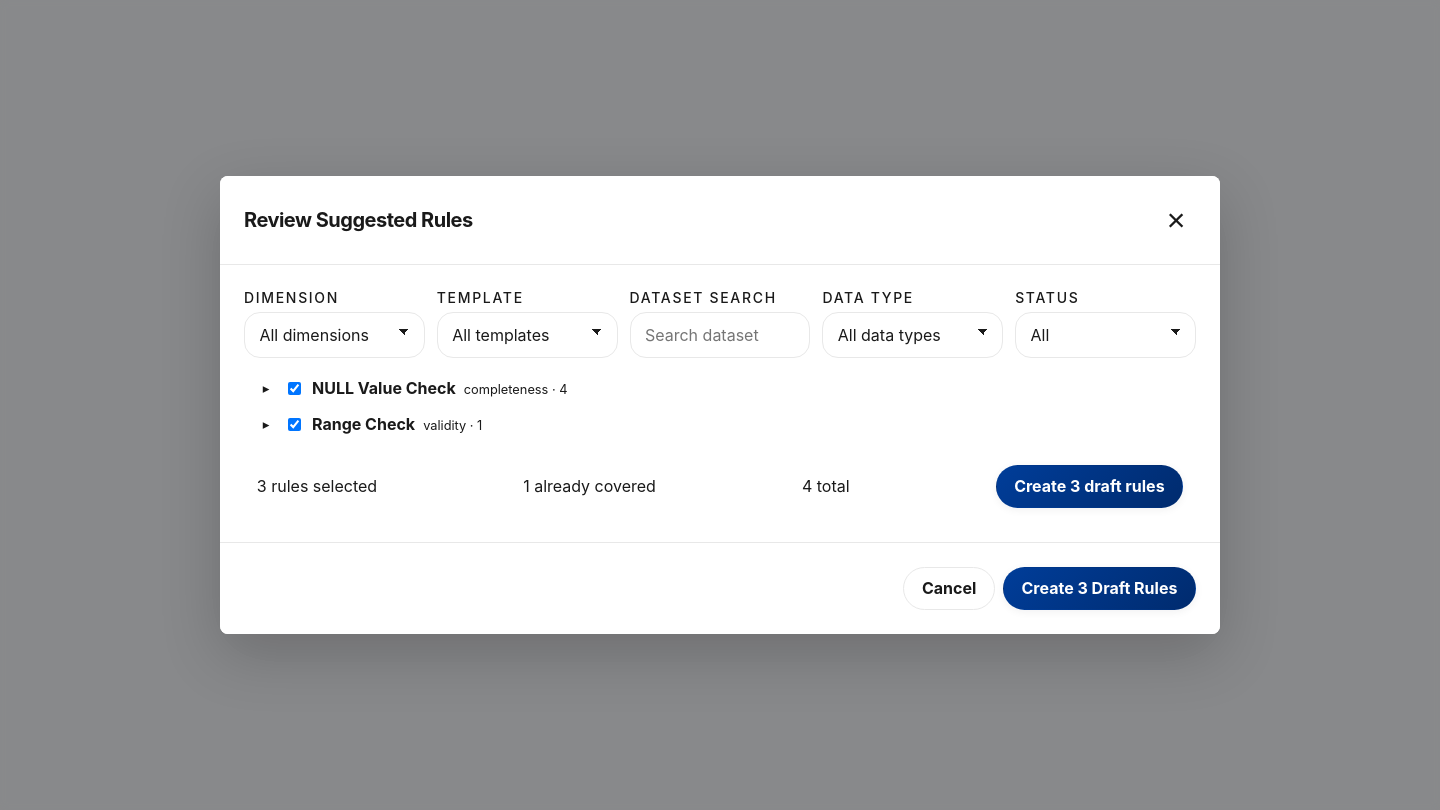
Test case: OnboardingRuleReview › applies status filter for already covered
Select "Already covered" in the dropdown labelled "Status": (1106, 335) x1=1015 y1=312 x2=1196 y2=358
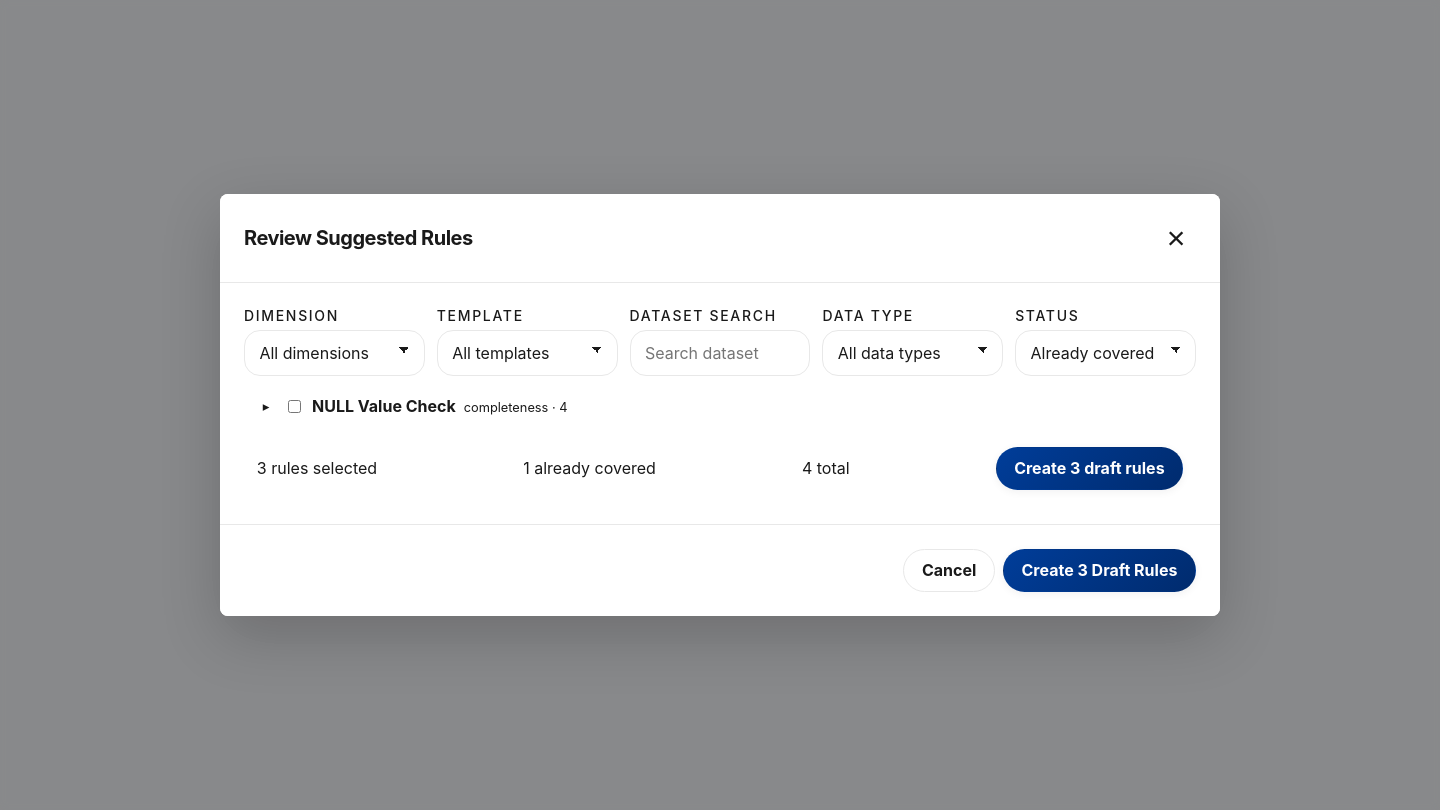
Click the button named "Expand template group": (266, 406) x1=256 y1=399 x2=276 y2=414
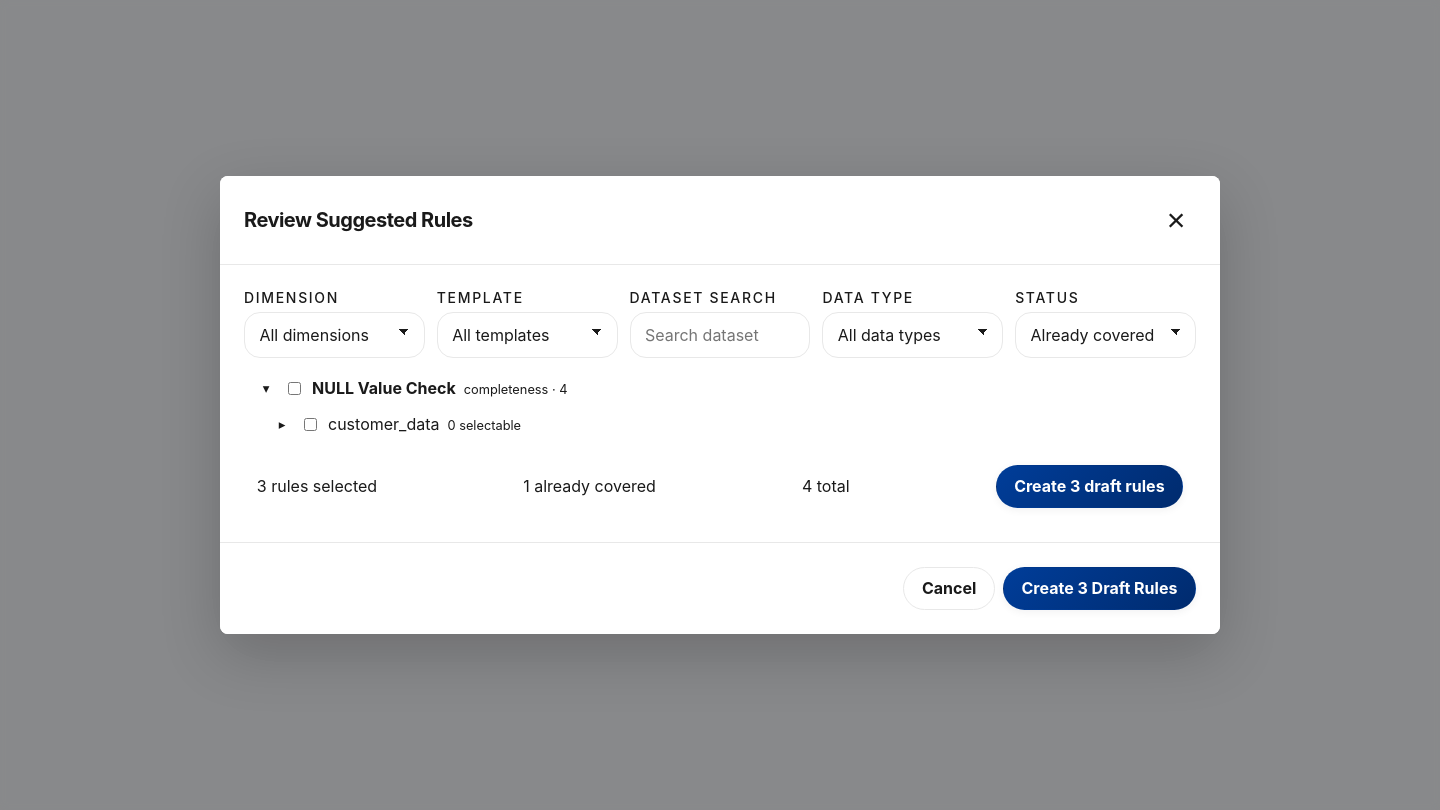
Click the button named "Expand dataset group": (282, 424) x1=272 y1=417 x2=292 y2=432
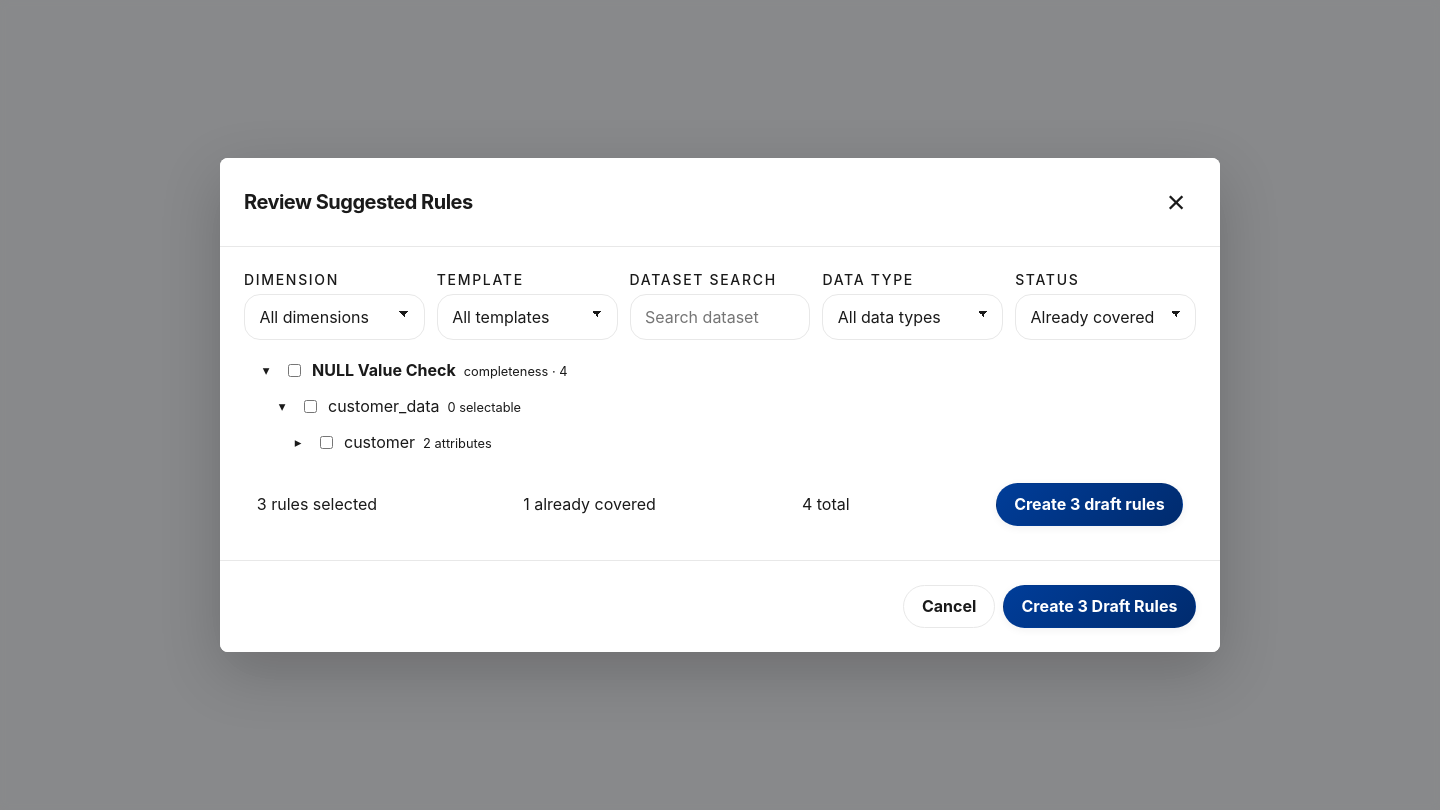
Click the button named "Expand object group": (298, 442) x1=288 y1=435 x2=308 y2=450
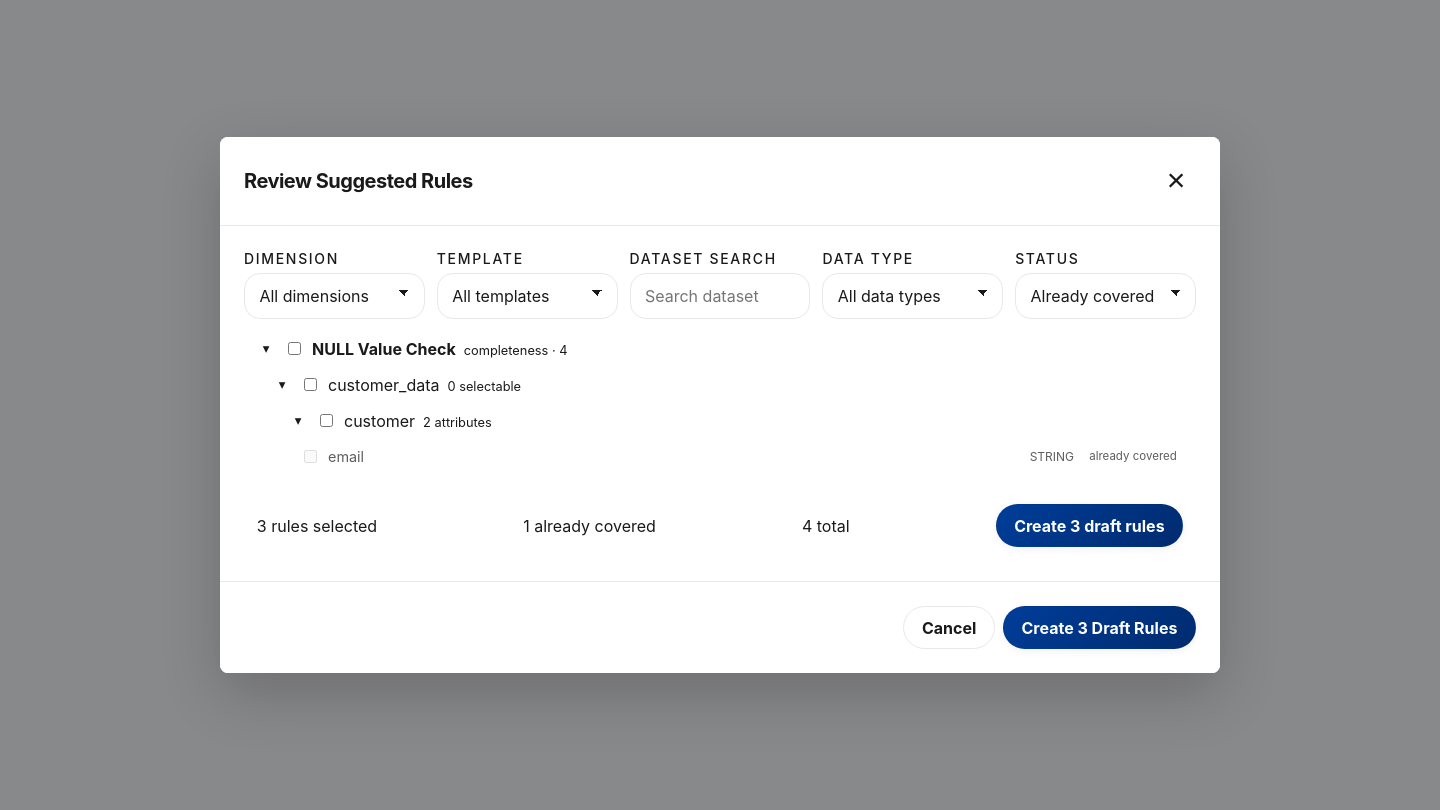
Expected: the text "email" is shown, x1=328 y1=448 x2=364 y2=465
